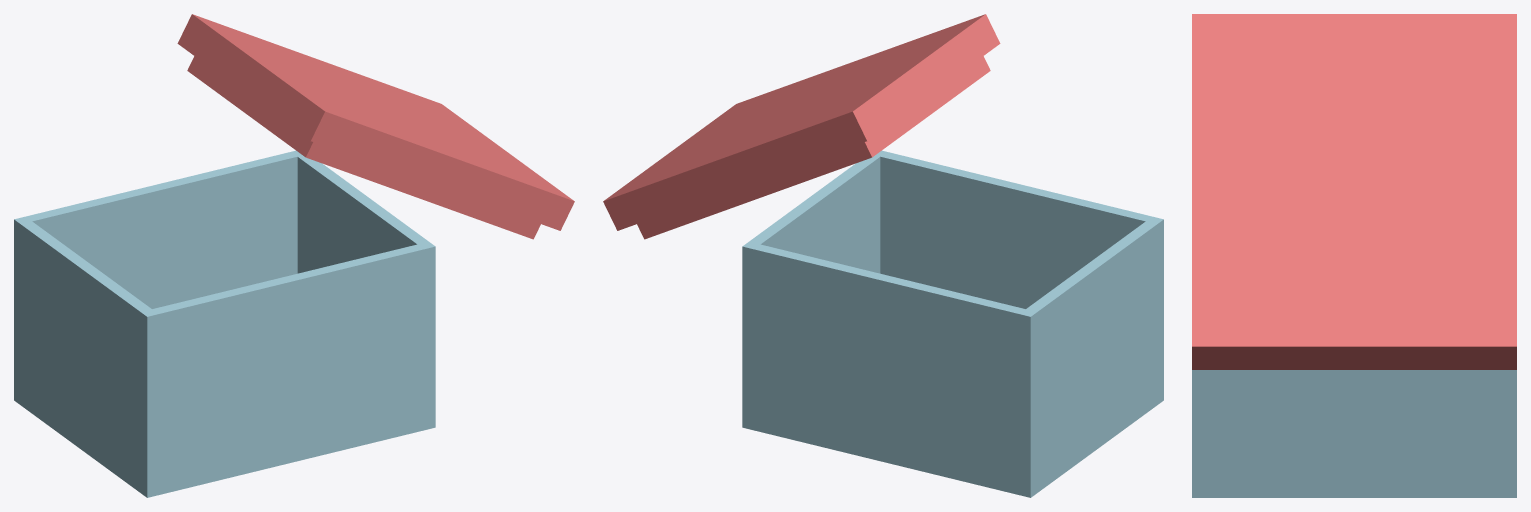
File: kutu_ve_kapagi.gltf
3 renders of one model, left to right at view 1: azimuth 30°, elevation 25°; view 2: azimuth 150°, elevation 25°; view 3: azimuth 270°, elevation 25°, orthographic. The views are drawn at different scales.
Parts seen in each view (by area): view 1: kutu_part, kapak_acik_part; view 2: kutu_part, kapak_acik_part; view 3: kapak_acik_part, kutu_part.
Part boxes in pixels (<box>): kutu_part: <box>14,150,435,497</box>; kapak_acik_part: <box>177,14,574,239</box>; kutu_part: <box>742,150,1163,497</box>; kapak_acik_part: <box>603,14,1000,239</box>; kapak_acik_part: <box>1192,14,1516,369</box>; kutu_part: <box>1192,370,1516,497</box>.
Size of the model in its own units: 74.15 by 56.83 by 40.
